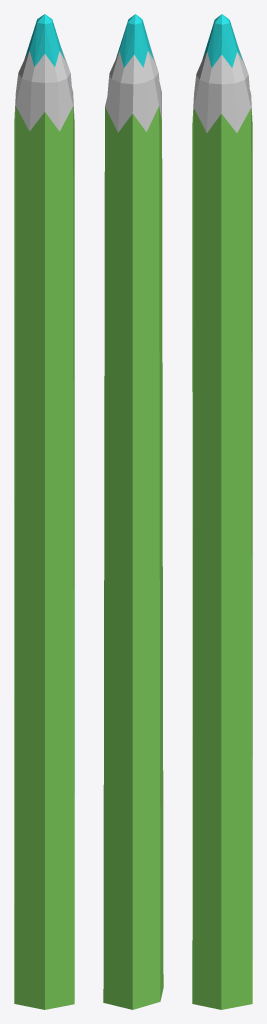
Rendered from pencil.fbx.
3 renders of one model, left to right at view 1: azimuth 90°, elevation 25°; view 2: azimuth 150°, elevation 25°; view 3: azimuth 270°, elevation 25°, orthographic.
Visible parts, largest first — view 1: Plane; view 2: Plane; view 3: Plane.
Boxes of the visible parts, left/top/right/bottom form: Plane: left=14, top=14, right=74, bottom=1009; Plane: left=103, top=14, right=163, bottom=1009; Plane: left=192, top=14, right=252, bottom=1009.
Bounding box in the file's own units: 27.91 × 486 × 27.03.
